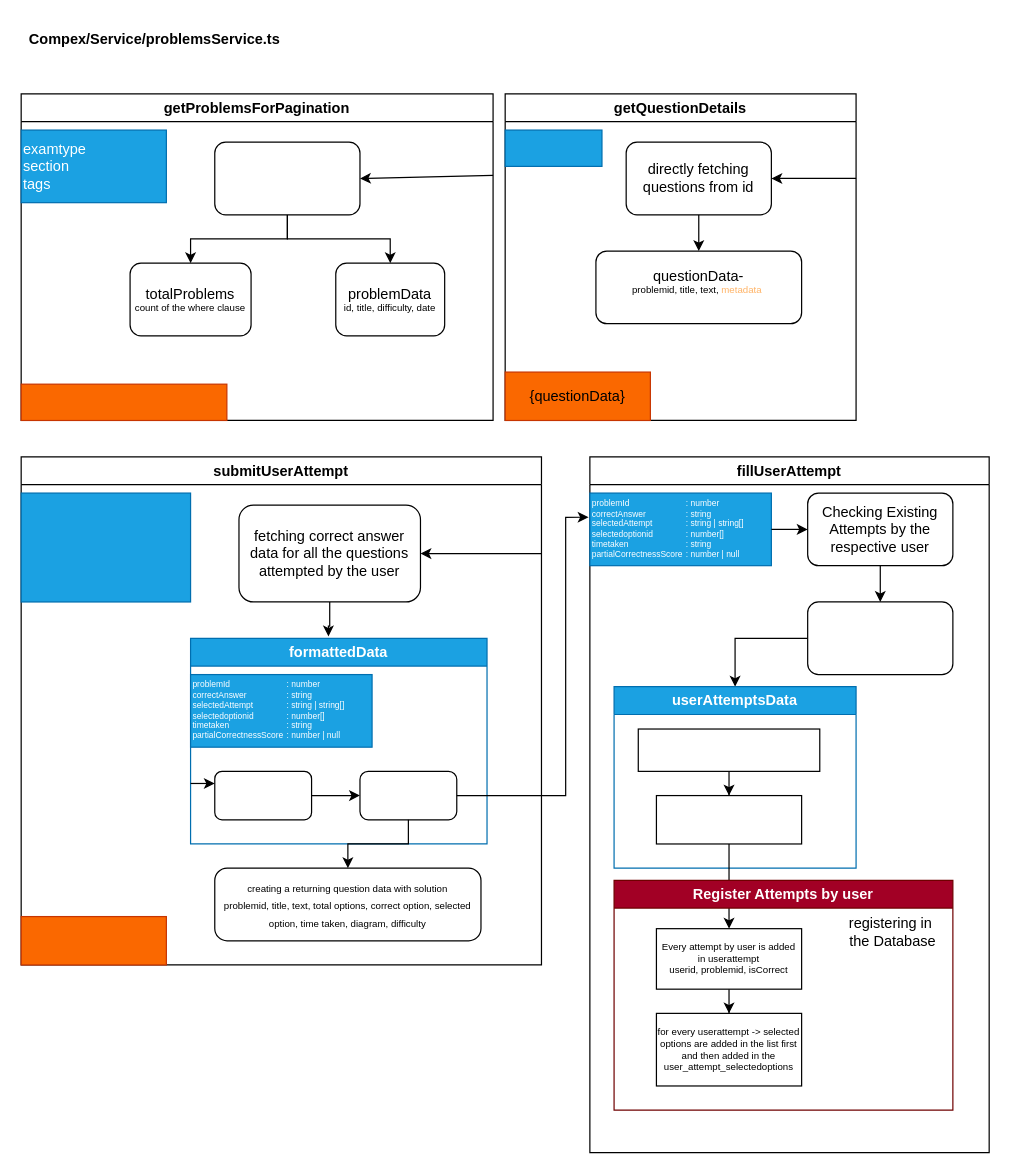
The diagram is 1010 pixels wide and 1174 high, and some of its shapes have lost their labels. Here are the shapes that lost their labels. From the top down, the centre of each, then its label:
At [553,147]: "problemId".
At [287,178]: "preparing a where clause".
At [123,401]: "{problemData, totalProblems}".
At [105,547]: "userid attempt { problemid option - string }".
At [879,638]: "Making Set of UserId, ProblemId".
At [728,749]: "first filter the formatted data content which is already present in DB".
At [263,795]: "fetching correct answer as String list".
At [408,795]: "fetching attempt details of the user".
At [728,819]: "userid, selectedoptionid, problemid, isCorrect, attemptdate,".
At [93,940]: "{returnData}".
